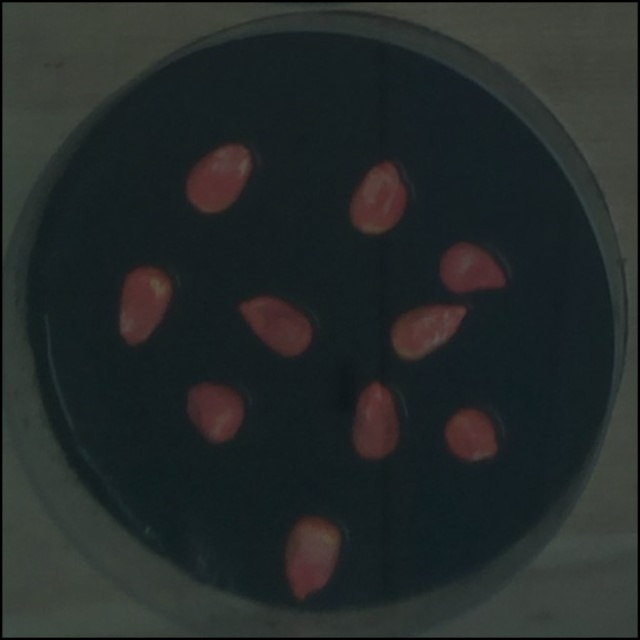Zea mays: (179, 135, 260, 221), (110, 256, 179, 353), (277, 510, 347, 605), (233, 287, 319, 364), (382, 296, 473, 368), (341, 154, 416, 241), (344, 373, 406, 466), (178, 373, 250, 451), (433, 234, 513, 299), (438, 401, 505, 468)
